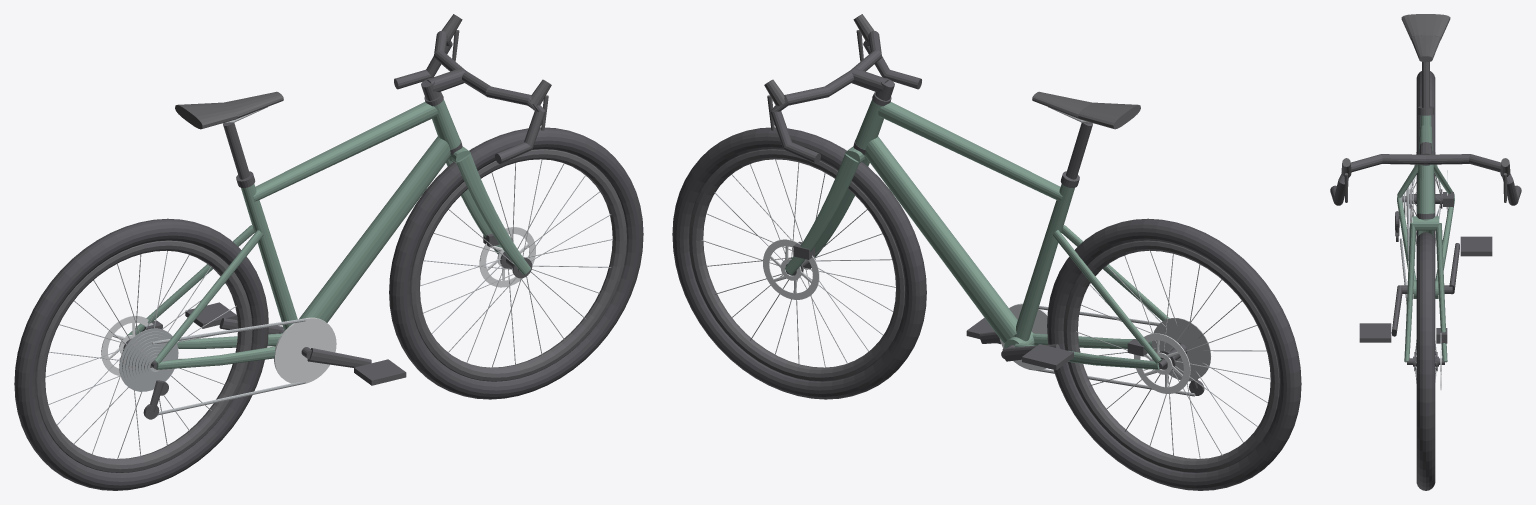
Rendered from bikerumor-state-6061-all-road-v2.glb.
3 views of the same model, side by side, from view 1: azimuth 30°, elevation 25°; view 2: azimuth 150°, elevation 25°; view 3: azimuth 270°, elevation 25° (orthographic). The views are drawn at different scales.
Parts seen in each view (by area): view 1: rear_wheel_tire, front_wheel_tire, front_wheel_rim, rear_wheel_rim, frame_downtube, frame_toptube, cockpit_dropbar, front_wheel_spokes, drivetrain_chainring, drivetrain_crankset, fork_rigid_blades, drivetrain_cassette (+12 smaller); view 2: rear_wheel_tire, front_wheel_tire, rear_wheel_rim, front_wheel_rim, frame_downtube, frame_toptube, cockpit_dropbar, fork_rigid_blades, front_wheel_spokes, frame_seattube, rear_wheel_spokes, rear_seatstays (+11 smaller); view 3: front_wheel_tire, cockpit_dropbar, drivetrain_crankset, fork_rigid_blades, saddle_shell, rear_wheel_tire, frame_headtube, rear_chainstays, cockpit_shifter_hoods, rear_seatstays, seatpost_aero, drivetrain_chain (+5 smaller).
Part boxes in pixels (<box>): rear_wheel_tire: <box>14,218,268,490</box>; front_wheel_tire: <box>389,127,643,399</box>; front_wheel_rim: <box>411,149,626,381</box>; rear_wheel_rim: <box>36,240,252,472</box>; frame_downtube: <box>299,136,450,322</box>; frame_toptube: <box>253,102,437,201</box>; cockpit_dropbar: <box>394,31,545,163</box>; front_wheel_spokes: <box>420,159,613,368</box>; drivetrain_chainring: <box>274,317,336,383</box>; drivetrain_crankset: <box>185,302,406,385</box>; fork_rigid_blades: <box>446,146,530,274</box>; drivetrain_cassette: <box>119,328,178,391</box>; rear_wheel_tire: <box>1047,218,1301,490</box>; front_wheel_tire: <box>672,127,926,399</box>; rear_wheel_rim: <box>1063,240,1279,472</box>; front_wheel_rim: <box>689,149,904,381</box>; frame_downtube: <box>865,136,1017,343</box>; frame_toptube: <box>878,102,1062,201</box>; cockpit_dropbar: <box>770,31,921,163</box>; fork_rigid_blades: <box>785,146,869,274</box>; front_wheel_spokes: <box>701,159,895,367</box>; frame_seattube: <box>1013,184,1074,341</box>; rear_wheel_spokes: <box>1076,251,1270,458</box>; rear_seatstays: <box>1052,225,1169,363</box>; front_wheel_tire: <box>1416,232,1435,490</box>; cockpit_dropbar: <box>1330,154,1521,205</box>; drivetrain_crankset: <box>1359,236,1492,342</box>; fork_rigid_blades: <box>1404,216,1447,362</box>; saddle_shell: <box>1401,14,1450,62</box>; rear_wheel_tire: <box>1416,71,1435,239</box>; frame_headtube: <box>1417,164,1434,213</box>; rear_chainstays: <box>1397,197,1454,280</box>; cockpit_shifter_hoods: <box>1341,158,1510,202</box>; rear_seatstays: <box>1397,164,1454,198</box>; seatpost_aero: <box>1422,62,1429,107</box>; drivetrain_chain: <box>1400,187,1409,305</box>.
Bounding box in the file's own units: 1.79 × 0.9893 × 0.5316.
